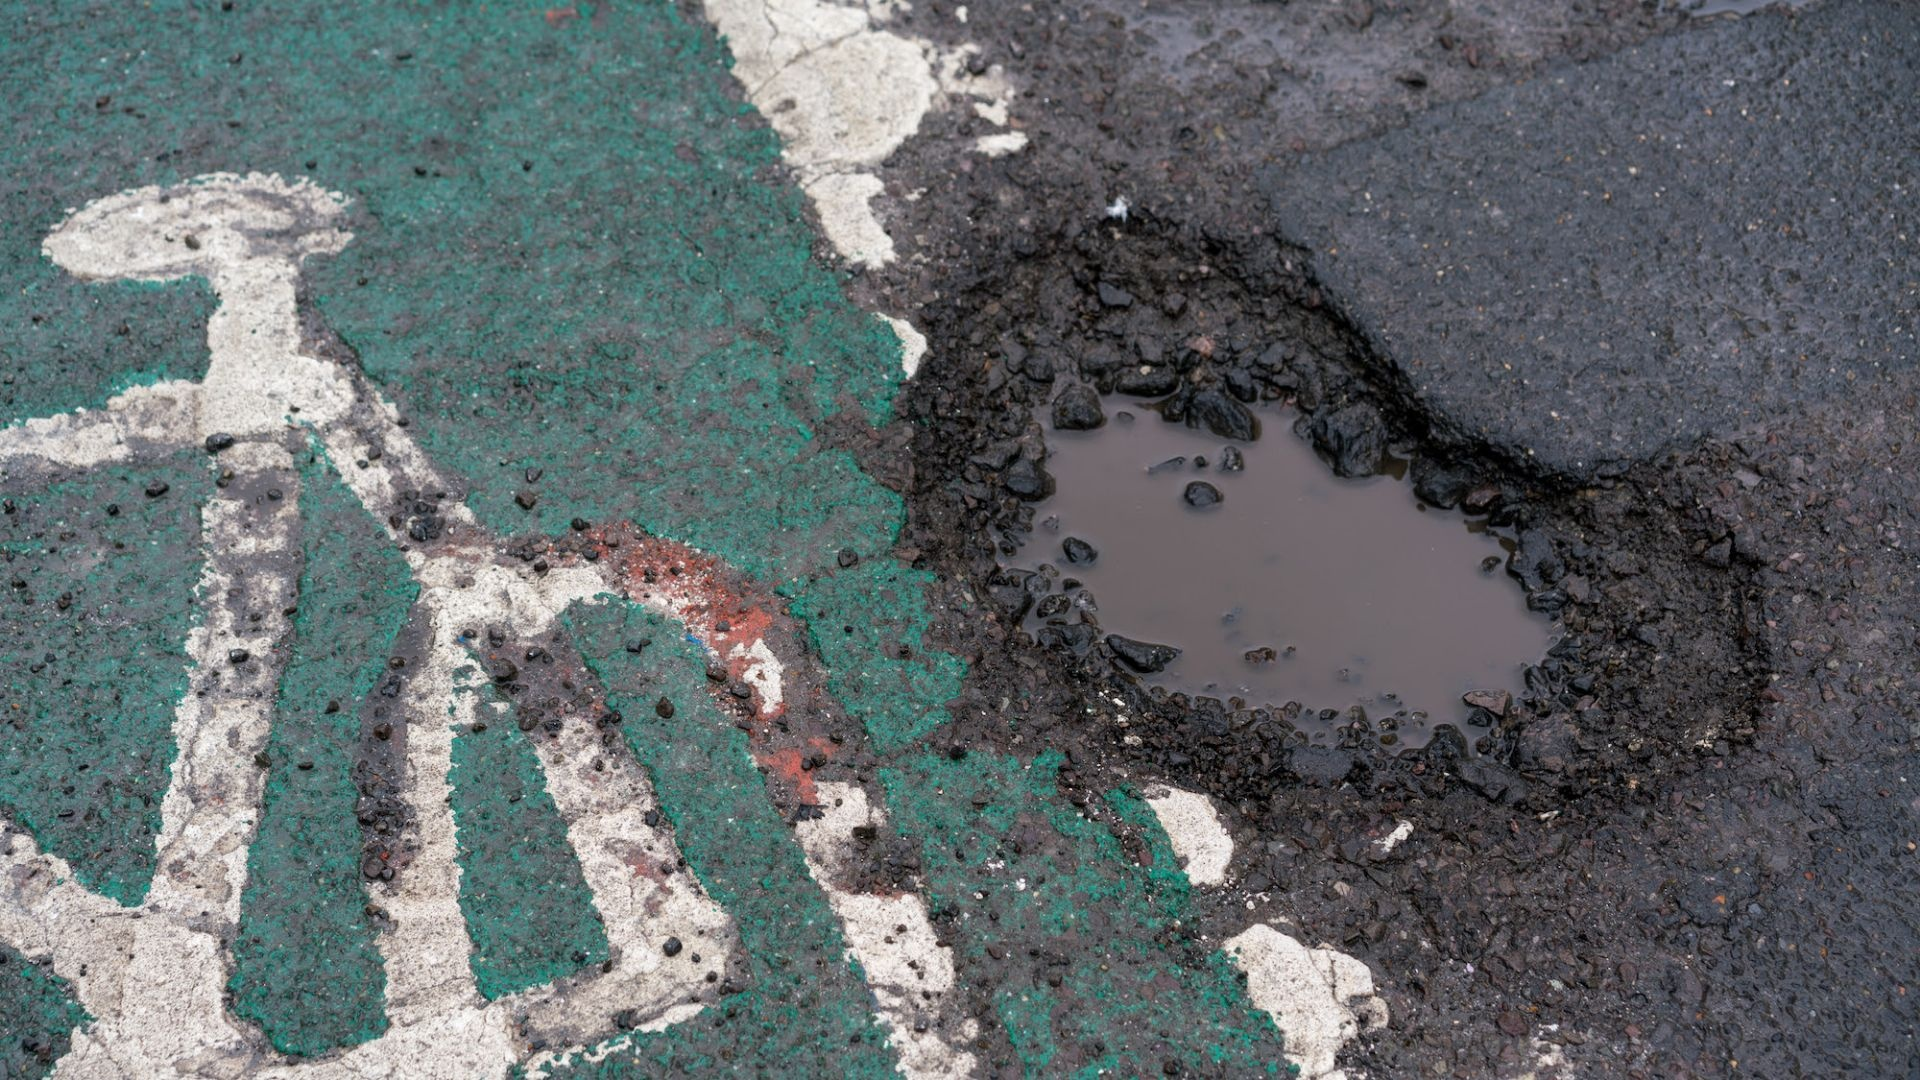pothole: (781, 71, 1834, 818)
